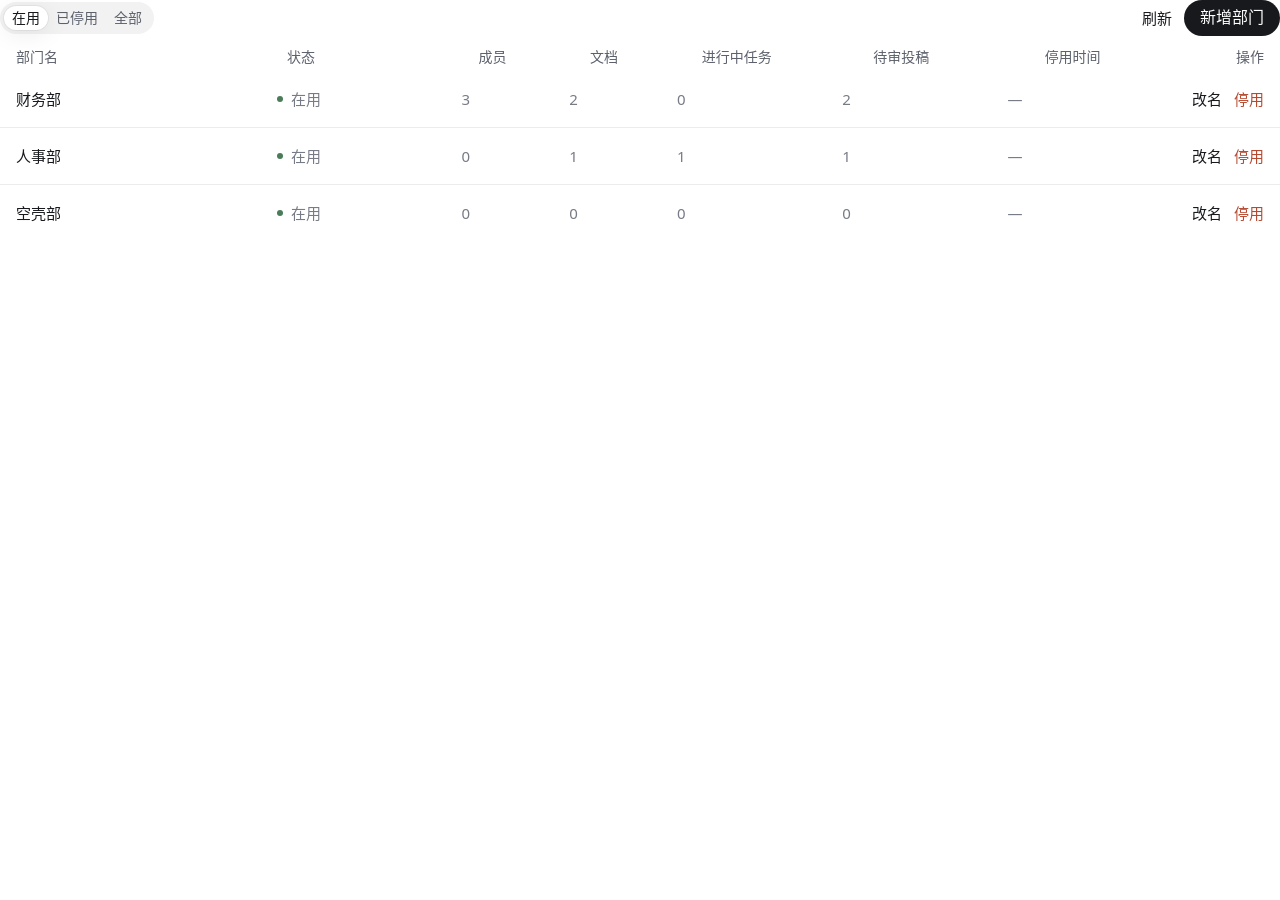
新增部门与幂等键语义 › idempotency_key_conflict：仅提示，不换键不自动重发
Expected: the text "财务部" is shown, [16,89,61,109]
Click the button "新增部门" at (1232, 18), box [1184,0,1279,36]
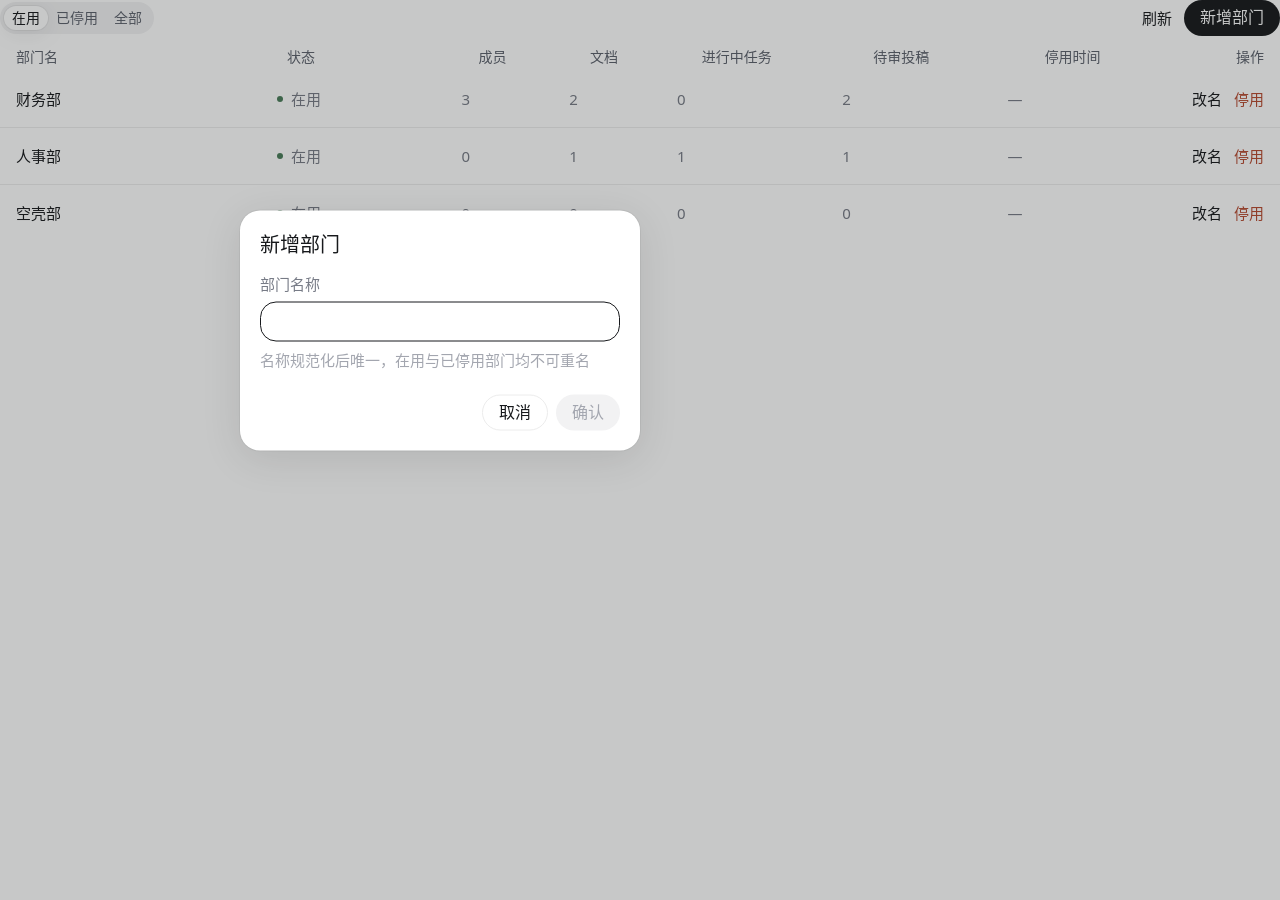
Type "战略部" into the field labelled "部门名称" at (440, 322), box [260,302,620,342]
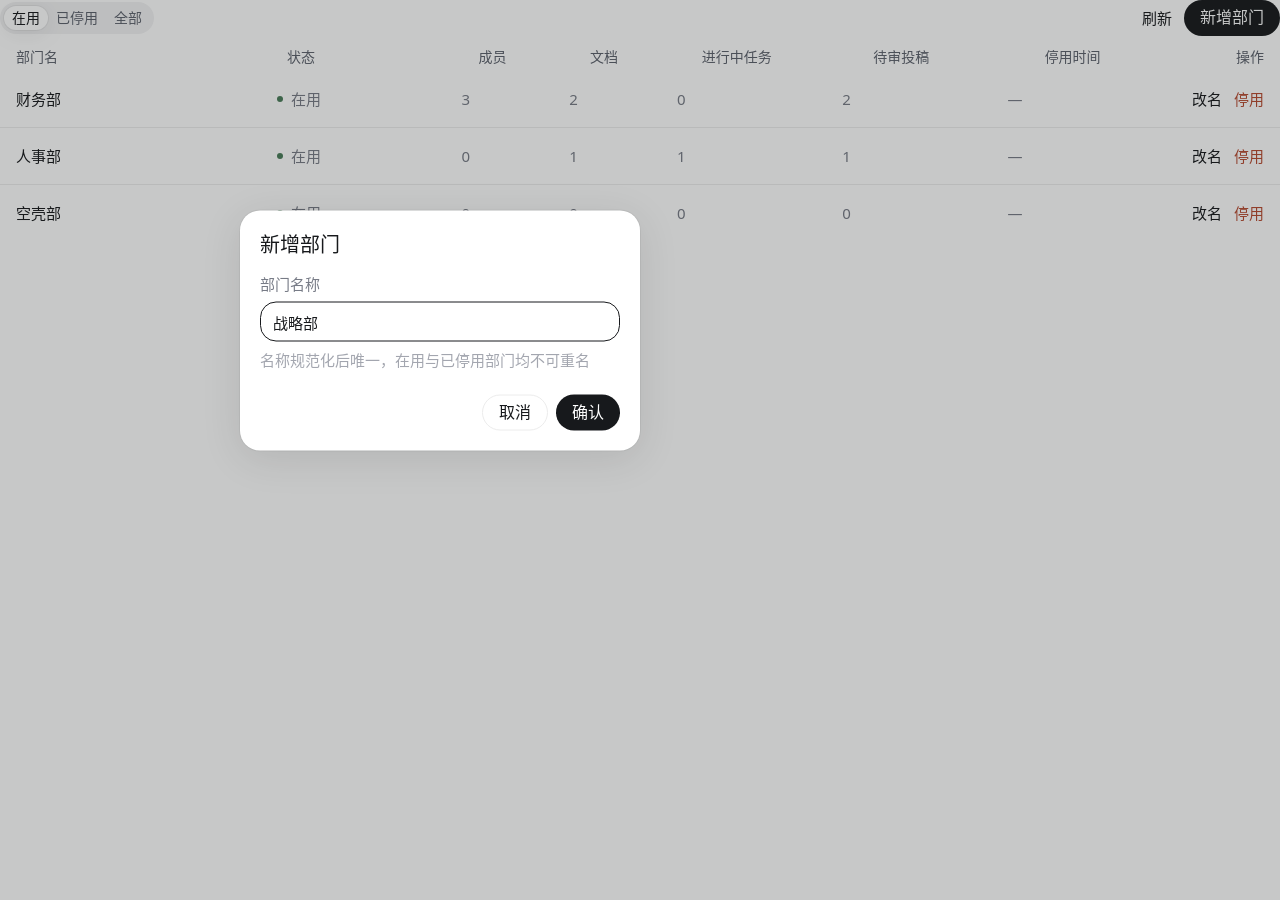
Click the button "确认" at (588, 412), box [556,394,620,430]
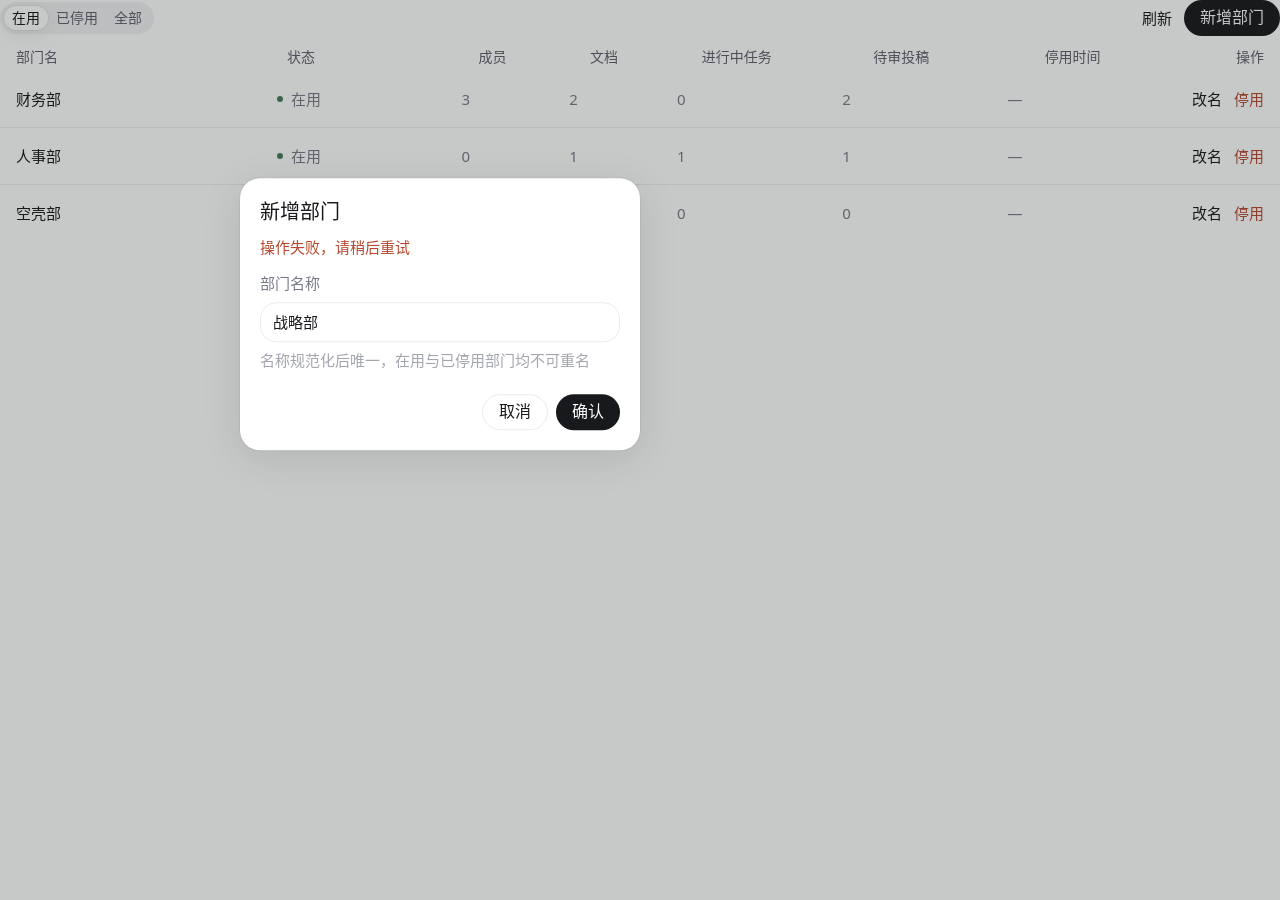
Expected: the text "操作失败，请稍后重试" is shown, [260,237,410,257]
